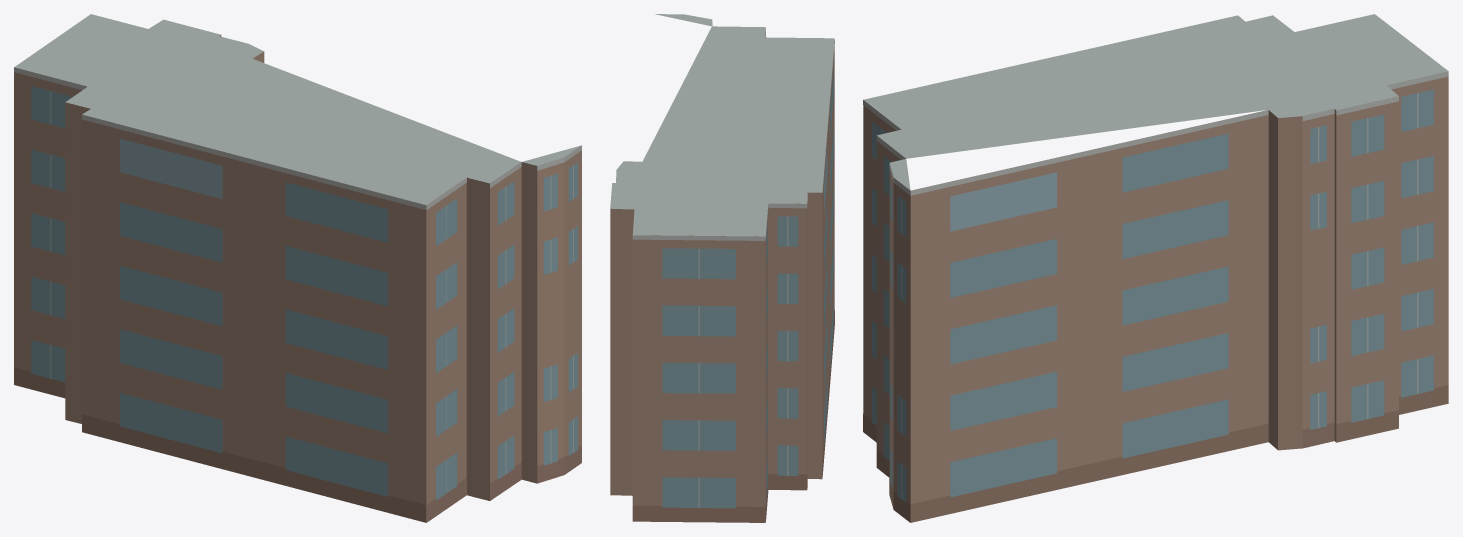
The model's file is survey-upis-32968568.glb.
The picture shows the model from 3 angles, left to right: view 1: azimuth 30°, elevation 25°; view 2: azimuth 150°, elevation 25°; view 3: azimuth 270°, elevation 25°; orthographic projection. The views are drawn at different scales.
Parts seen in each view (by area): view 1: survey-upis-32968568.tmp; view 2: survey-upis-32968568.tmp; view 3: survey-upis-32968568.tmp.
Part boxes in pixels (x1,y1,x2,y2): survey-upis-32968568.tmp: (14,14,581,522); survey-upis-32968568.tmp: (610,14,834,522); survey-upis-32968568.tmp: (863,14,1448,522).
Bounding box in the file's own units: 17.9 × 15.7 × 25.08.
